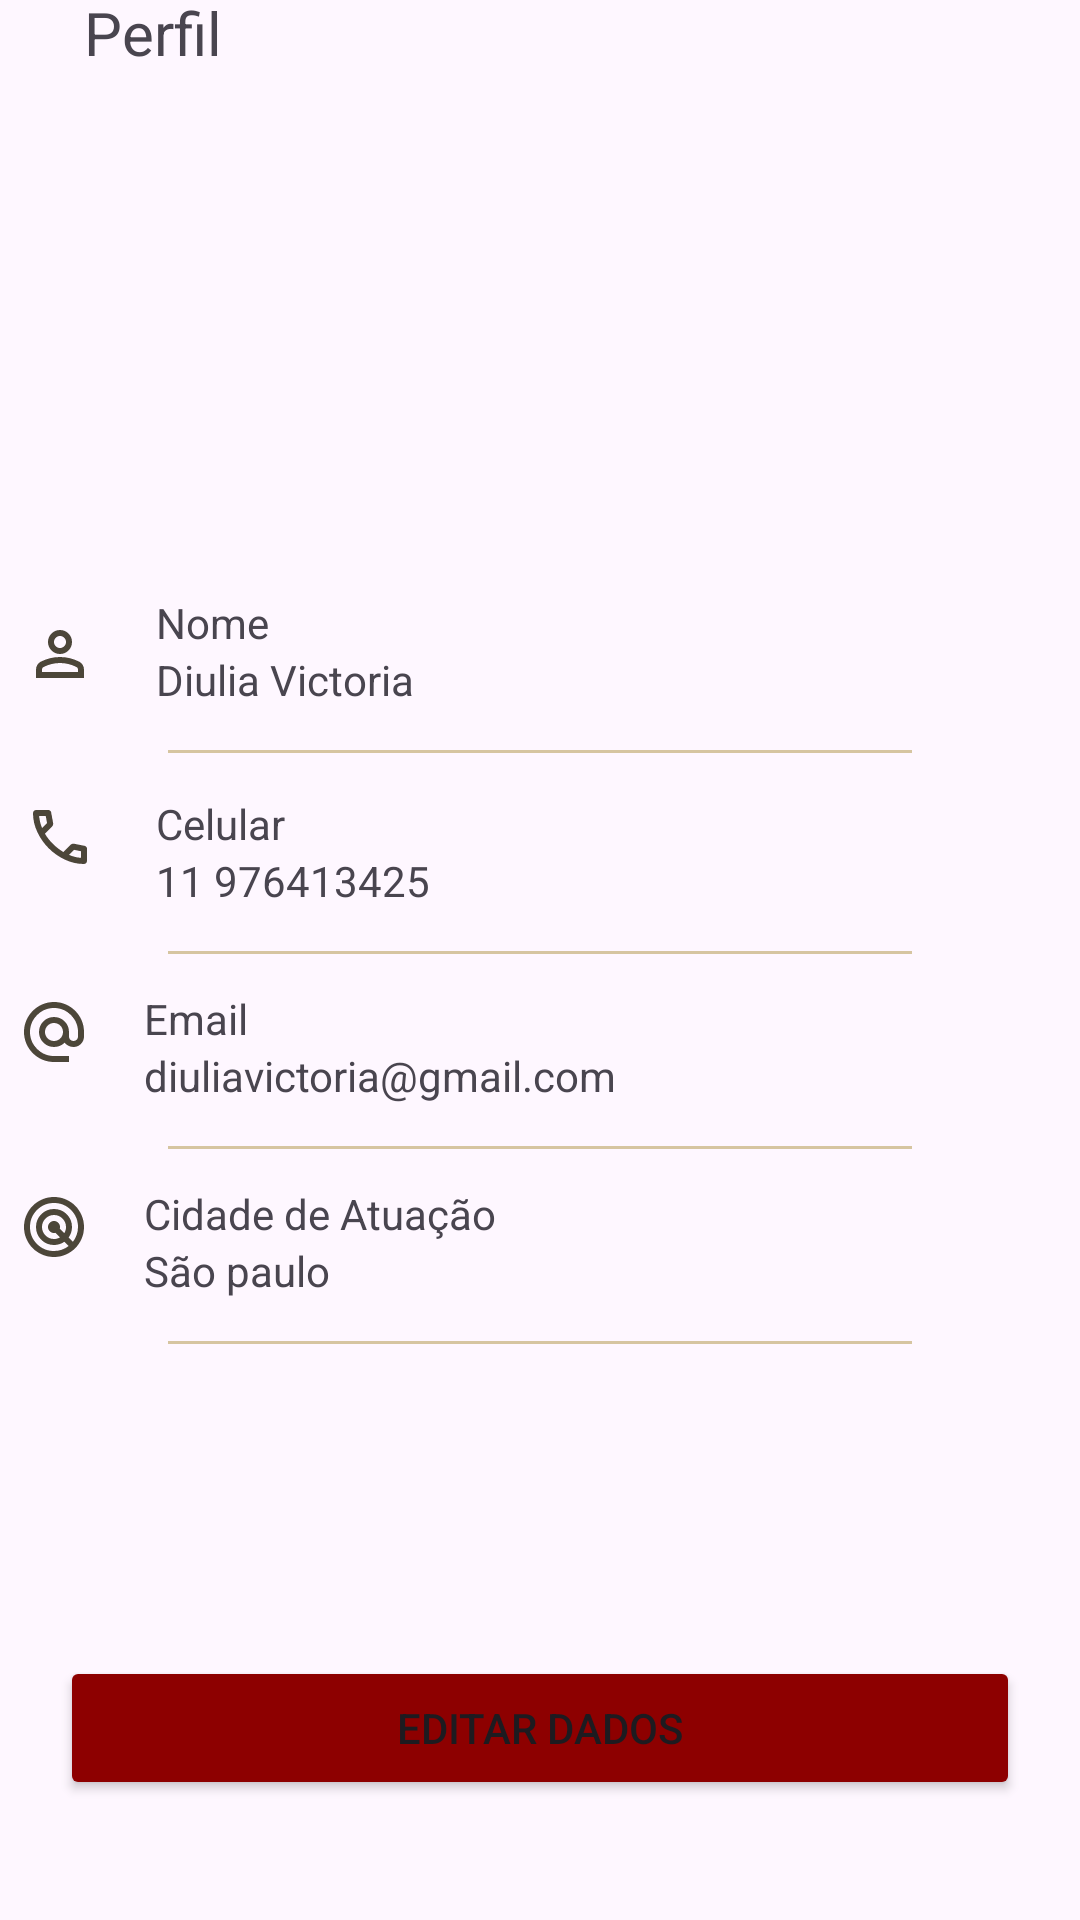

Where to tap for icons on this 1080 x 1920 app screen, as (x,y):
call: (60,837)
person: (60,654)
